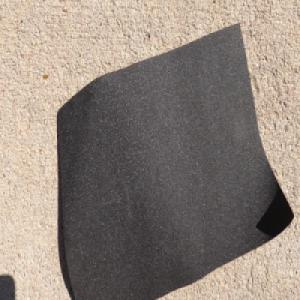PaintChip: (54, 14, 291, 293)
